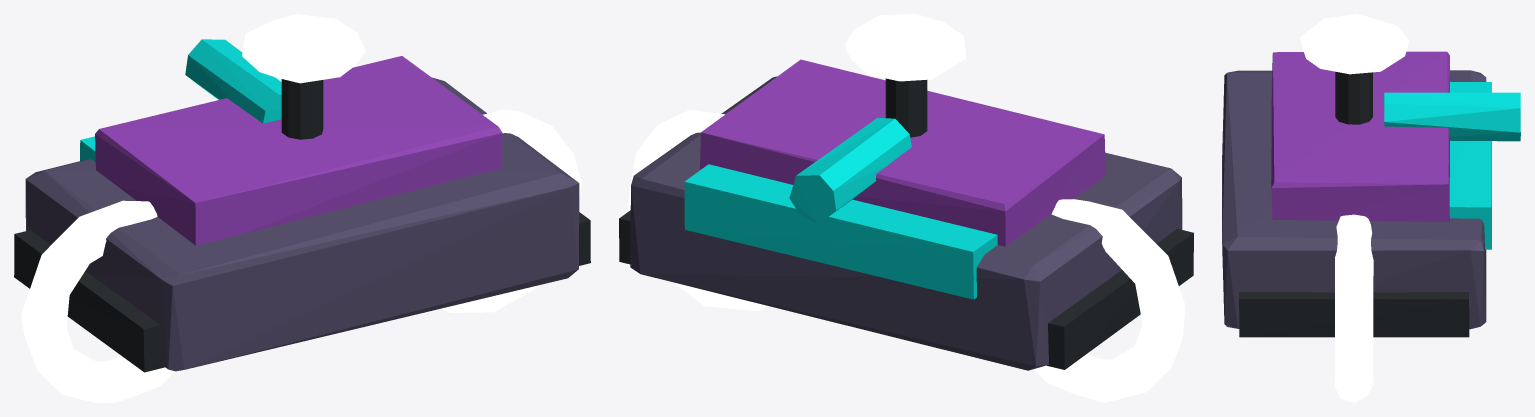
File: SM_Chronolegion_CH_ParallaxScout_LOD2.fbx
3 views of the same model, side by side, from view 1: azimuth 30°, elevation 25°; view 2: azimuth 150°, elevation 25°; view 3: azimuth 270°, elevation 25° (orthographic). The views are drawn at different scales.
Parts seen in each view (by area): view 1: LOD02_SM_Chronolegion_CH_ParallaxScout; view 2: LOD02_SM_Chronolegion_CH_ParallaxScout; view 3: LOD02_SM_Chronolegion_CH_ParallaxScout.
Part boxes in pixels (x1,y1,x2,y2): LOD02_SM_Chronolegion_CH_ParallaxScout: (14, 14, 590, 402); LOD02_SM_Chronolegion_CH_ParallaxScout: (619, 14, 1193, 402); LOD02_SM_Chronolegion_CH_ParallaxScout: (1222, 14, 1520, 402).
Bounding box in the file's own units: 381 × 201 × 216.
